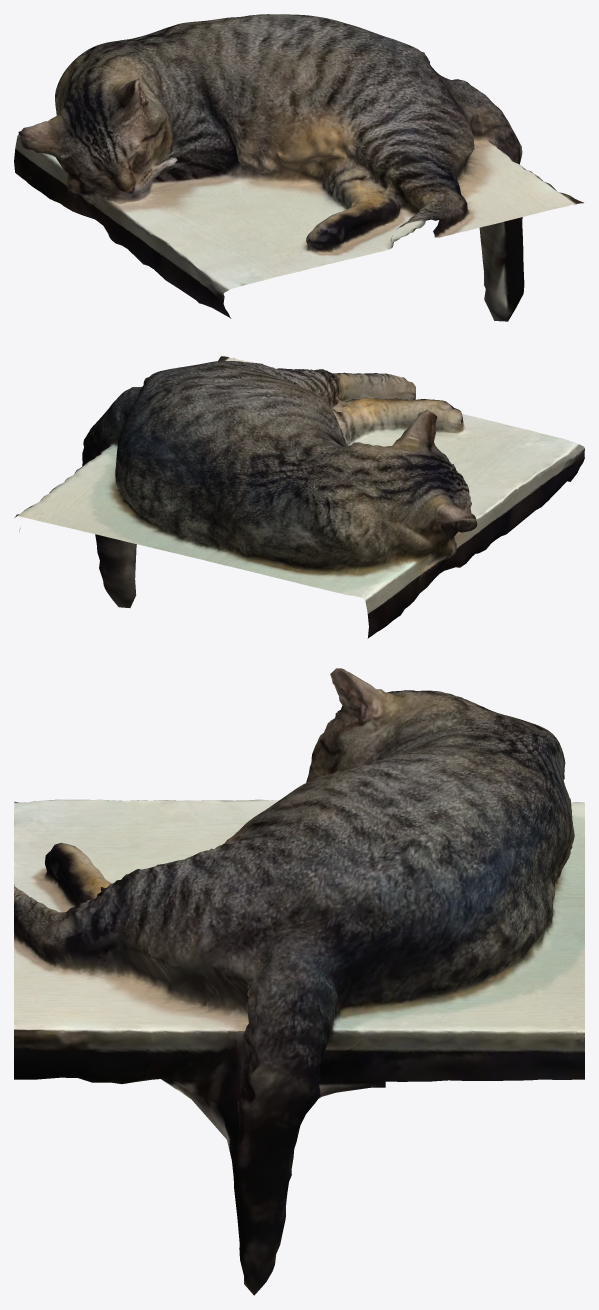
File: sleeping_cat_on_the_table_-_3d_scan.glb
3 views of the same model, one above another, from view 1: azimuth 30°, elevation 25°; view 2: azimuth 150°, elevation 25°; view 3: azimuth 270°, elevation 25° (orthographic). The views are drawn at different scales.
Visible parts, largest first — view 1: marg 2_0; view 2: marg 2_0; view 3: marg 2_0.
Part boxes in pixels (bbox=[...]): marg 2_0: bbox=[14, 14, 583, 321]; marg 2_0: bbox=[14, 356, 584, 638]; marg 2_0: bbox=[14, 668, 584, 1295].
Size of the model in its own units: 0.525 by 0.3434 by 0.4384.
Materials: 1 (1 with a texture image).
